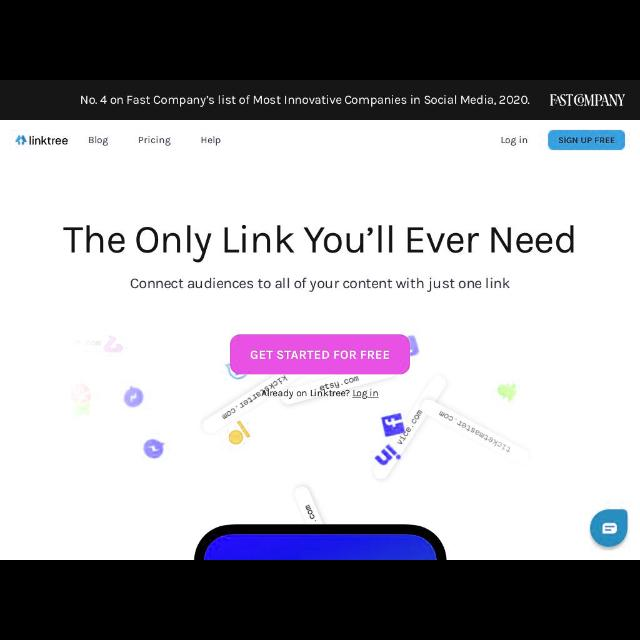button: (589, 510, 629, 548)
icon: (602, 522, 616, 536)
image: (550, 92, 626, 108), (17, 134, 69, 146)
text: (62, 226, 576, 254), (80, 94, 530, 108), (130, 278, 510, 290), (251, 351, 389, 362), (262, 388, 380, 400), (558, 136, 616, 148), (138, 135, 172, 145), (501, 135, 527, 145), (200, 136, 222, 146), (89, 136, 108, 146)
textbutton: (229, 336, 409, 374), (549, 130, 625, 150)
